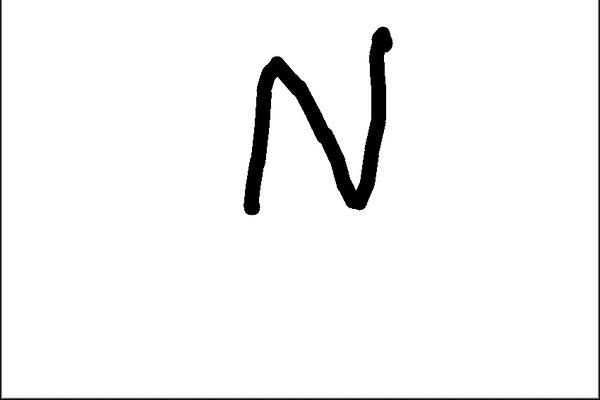N: (238, 22, 398, 223)
